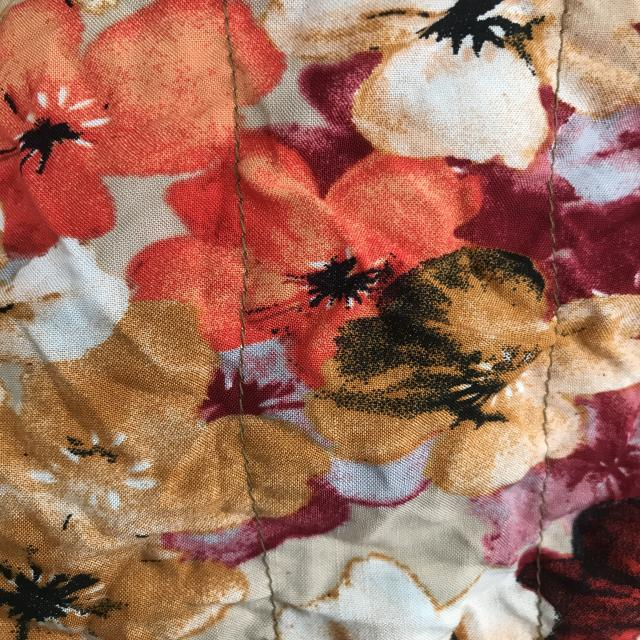good: (227, 195, 274, 327), (538, 166, 565, 282), (248, 560, 295, 618), (538, 352, 556, 417)
